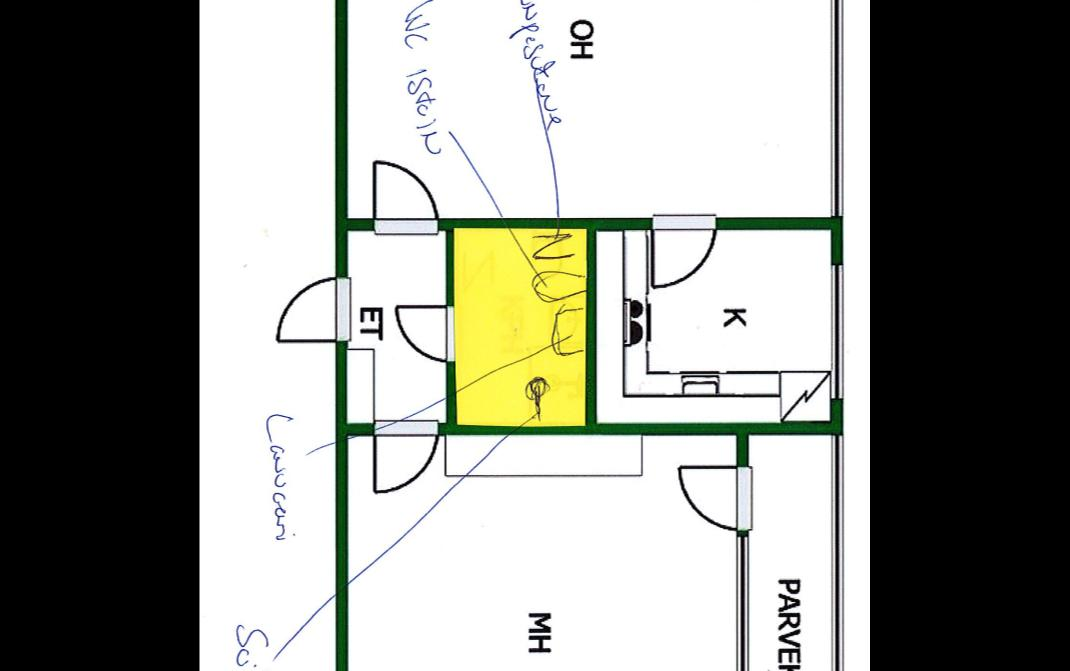door: (366, 418, 442, 497), (272, 272, 354, 344), (648, 210, 720, 290), (372, 152, 439, 237), (674, 462, 756, 530), (390, 302, 457, 362)
perimeter: (334, 0, 844, 671)
window: (827, 425, 848, 671), (829, 0, 849, 226), (828, 252, 848, 411), (733, 531, 754, 671)
